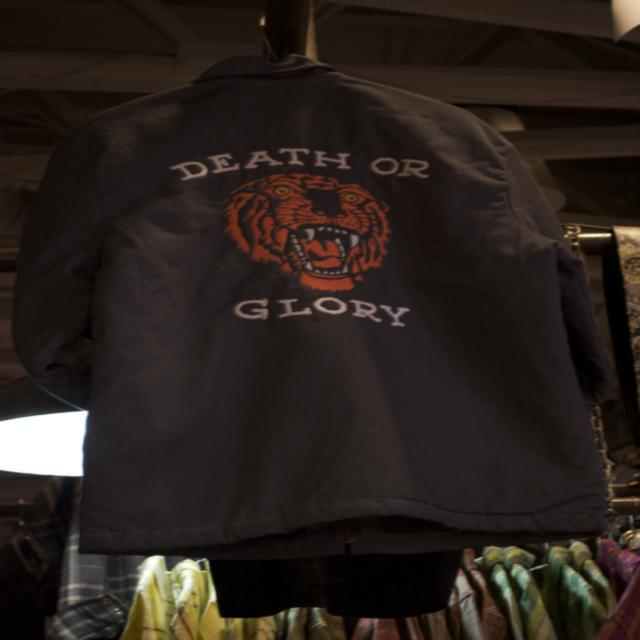Tiger: (221, 170, 390, 295)
